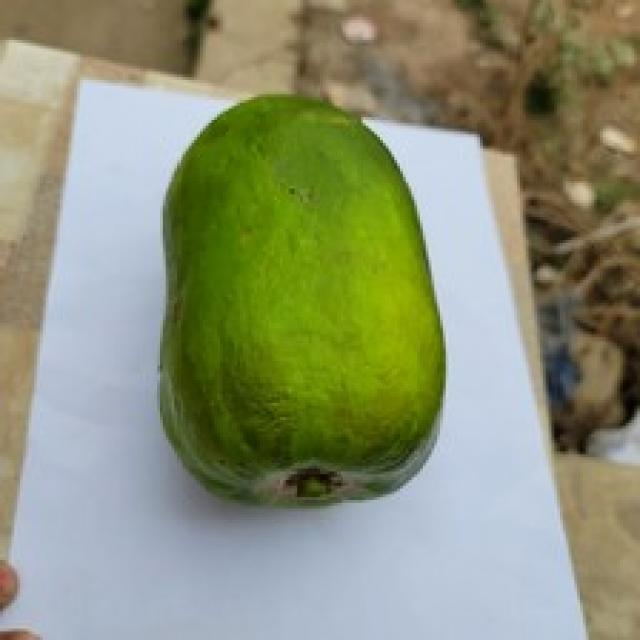Pepaya unrippen: (140, 76, 452, 509)
